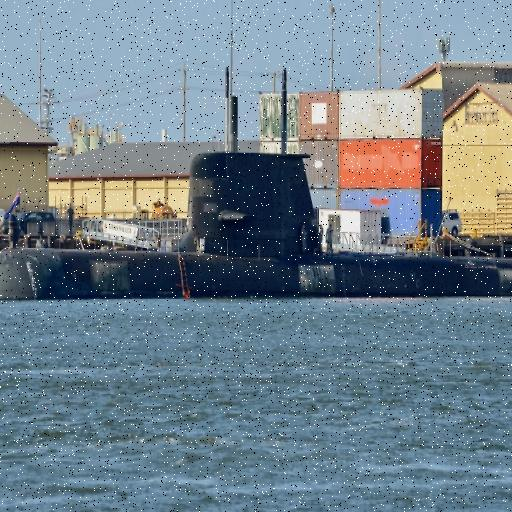submarine: (1, 66, 512, 295)
